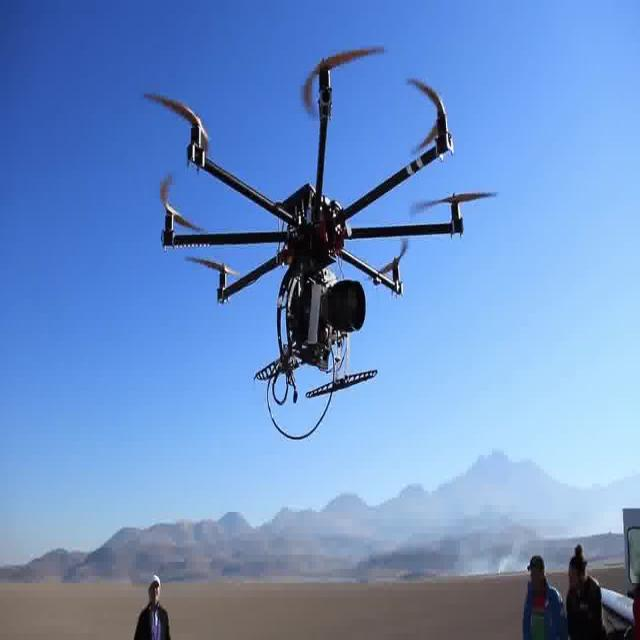Drone_FW: (142, 43, 498, 440)
